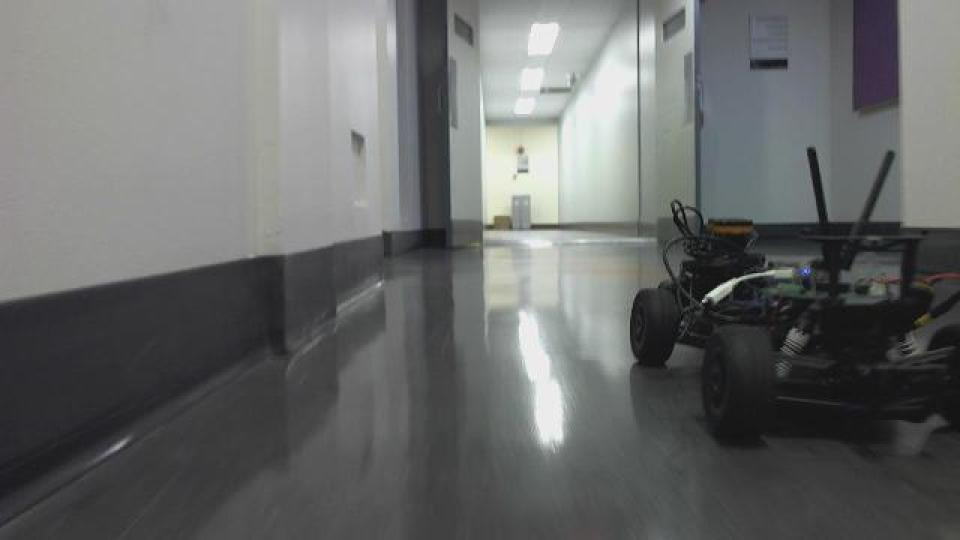car: (625, 144, 957, 452)
